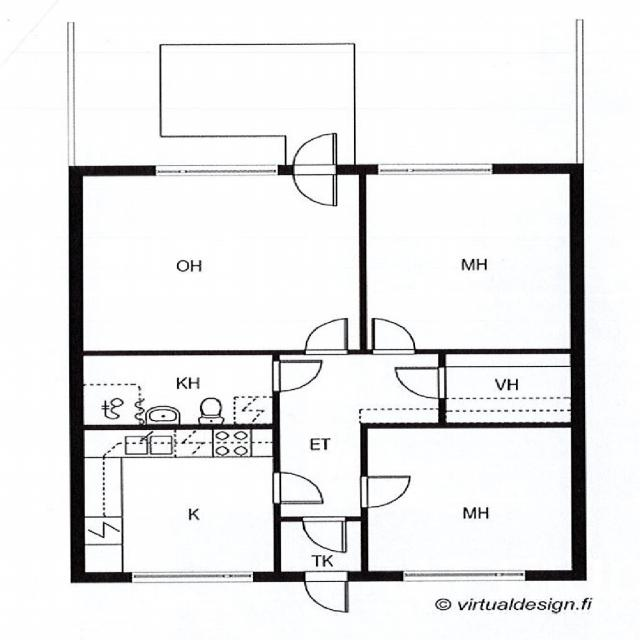door: (304, 570, 347, 612), (293, 163, 335, 204), (293, 133, 335, 174), (272, 472, 323, 504), (360, 476, 410, 507), (303, 517, 346, 553), (272, 361, 322, 391), (396, 368, 446, 398), (372, 320, 414, 355), (306, 320, 346, 355)
